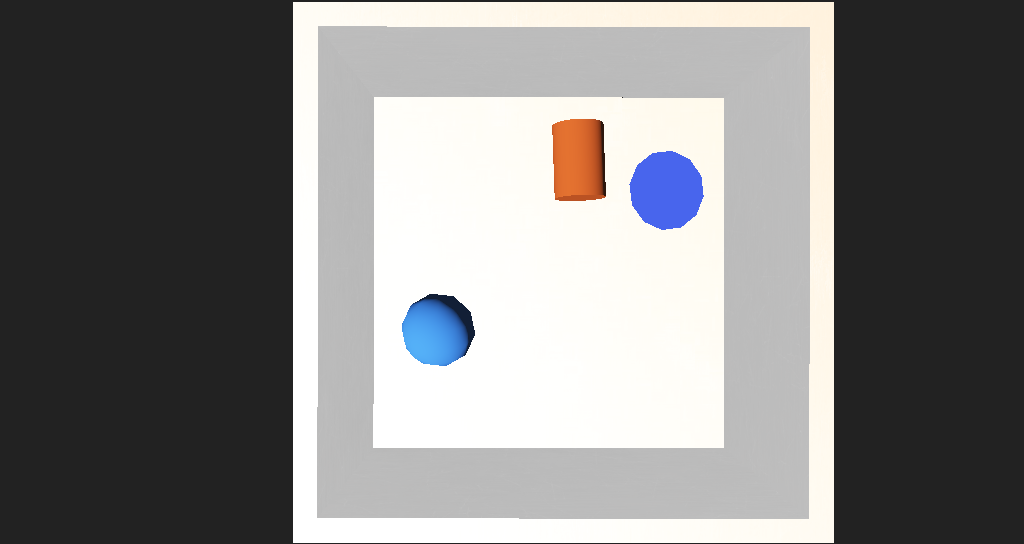cone: (509, 177, 556, 224)
cylinder: (552, 193, 633, 246)
sphere: (381, 284, 441, 327)
